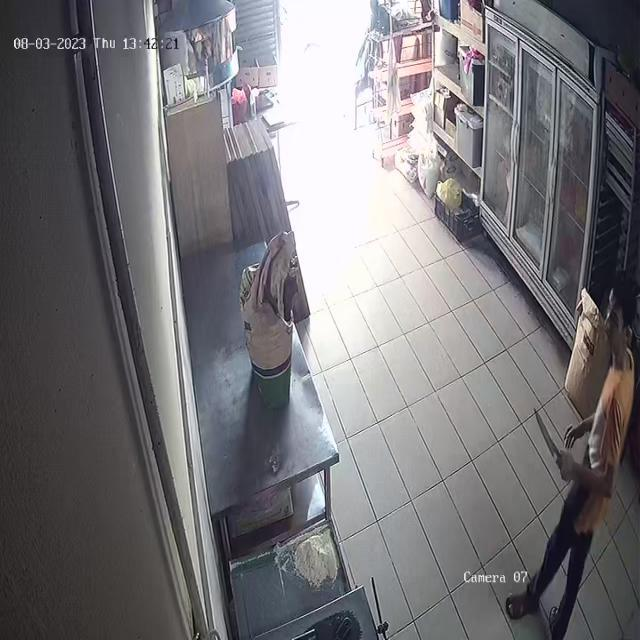Knife: (519, 407, 563, 458)
